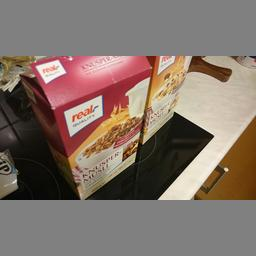cereal: (21, 56, 152, 200)
